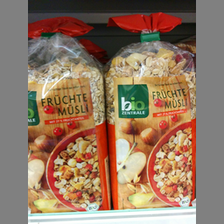cereal: (106, 13, 197, 209), (28, 17, 111, 214)
